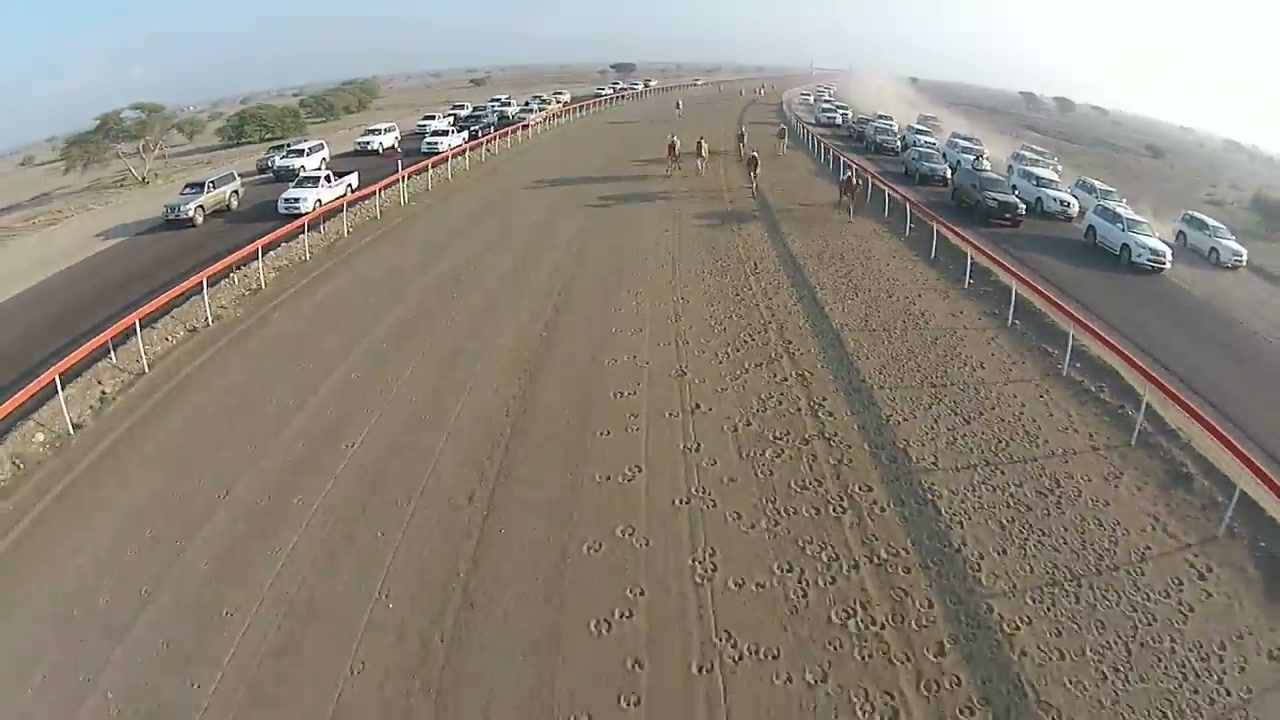animal_foot_print: (682, 237, 940, 717), (690, 548, 718, 584), (615, 524, 649, 548), (803, 660, 830, 685), (604, 354, 648, 367), (918, 677, 942, 699), (589, 618, 612, 636), (618, 692, 641, 709), (771, 669, 794, 685), (691, 659, 714, 675), (758, 645, 781, 661), (625, 656, 646, 673), (582, 540, 603, 555), (348, 660, 366, 677), (615, 524, 636, 538), (613, 607, 634, 621), (690, 484, 712, 497), (725, 509, 744, 524), (689, 401, 712, 413), (682, 440, 703, 453), (624, 585, 645, 598), (612, 388, 637, 398), (623, 465, 643, 477), (632, 535, 649, 549), (669, 366, 688, 378), (722, 422, 740, 434), (700, 457, 719, 468), (564, 712, 592, 719), (594, 473, 613, 483), (617, 474, 638, 483), (673, 496, 690, 506), (625, 423, 641, 433), (721, 475, 737, 485), (626, 412, 640, 423), (627, 327, 644, 336), (222, 607, 235, 618), (605, 358, 620, 367), (665, 410, 680, 418), (596, 429, 611, 437), (613, 306, 627, 312), (658, 341, 672, 347), (611, 327, 623, 333)
